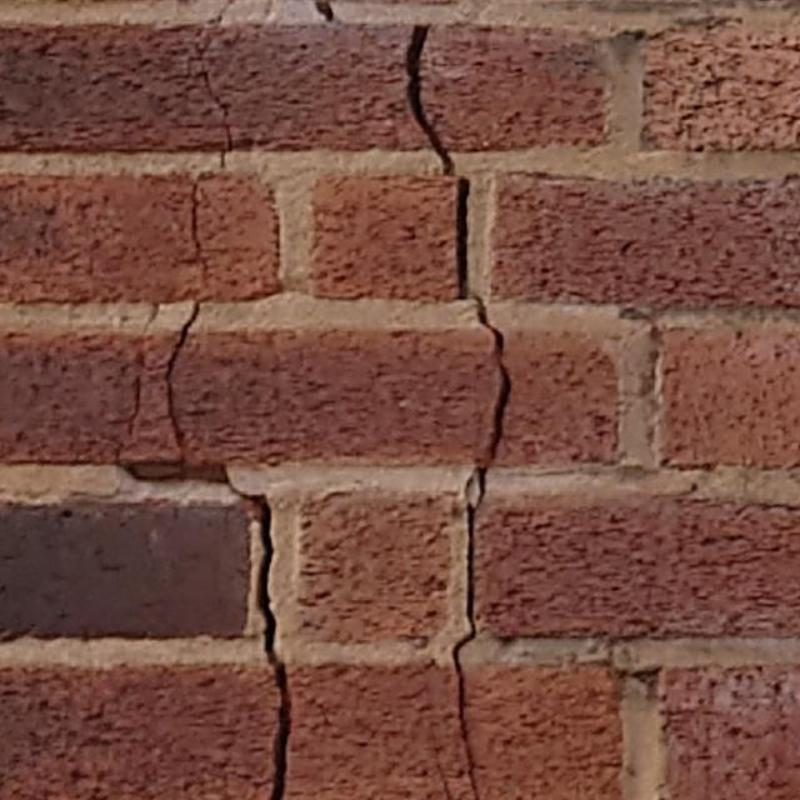pothole: (458, 177, 509, 460), (250, 495, 291, 799), (453, 466, 485, 788), (115, 443, 249, 499), (406, 25, 455, 177), (163, 301, 201, 450), (205, 70, 233, 170), (190, 170, 208, 270), (210, 0, 236, 32), (127, 376, 140, 436), (141, 300, 159, 335), (632, 669, 660, 690), (315, 0, 333, 22)
